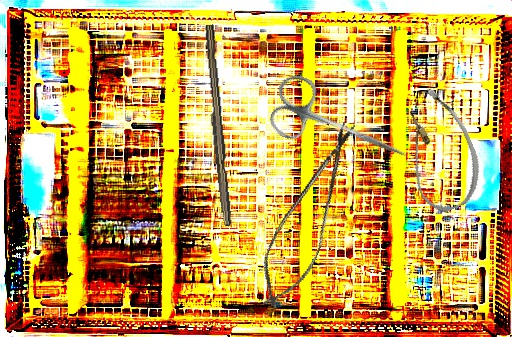Cannula: (384, 81, 493, 219)
Iris Scissors: (262, 70, 421, 183)
Micro Scissor: (246, 111, 371, 319)
Scalpel Handle: (198, 24, 236, 227)
